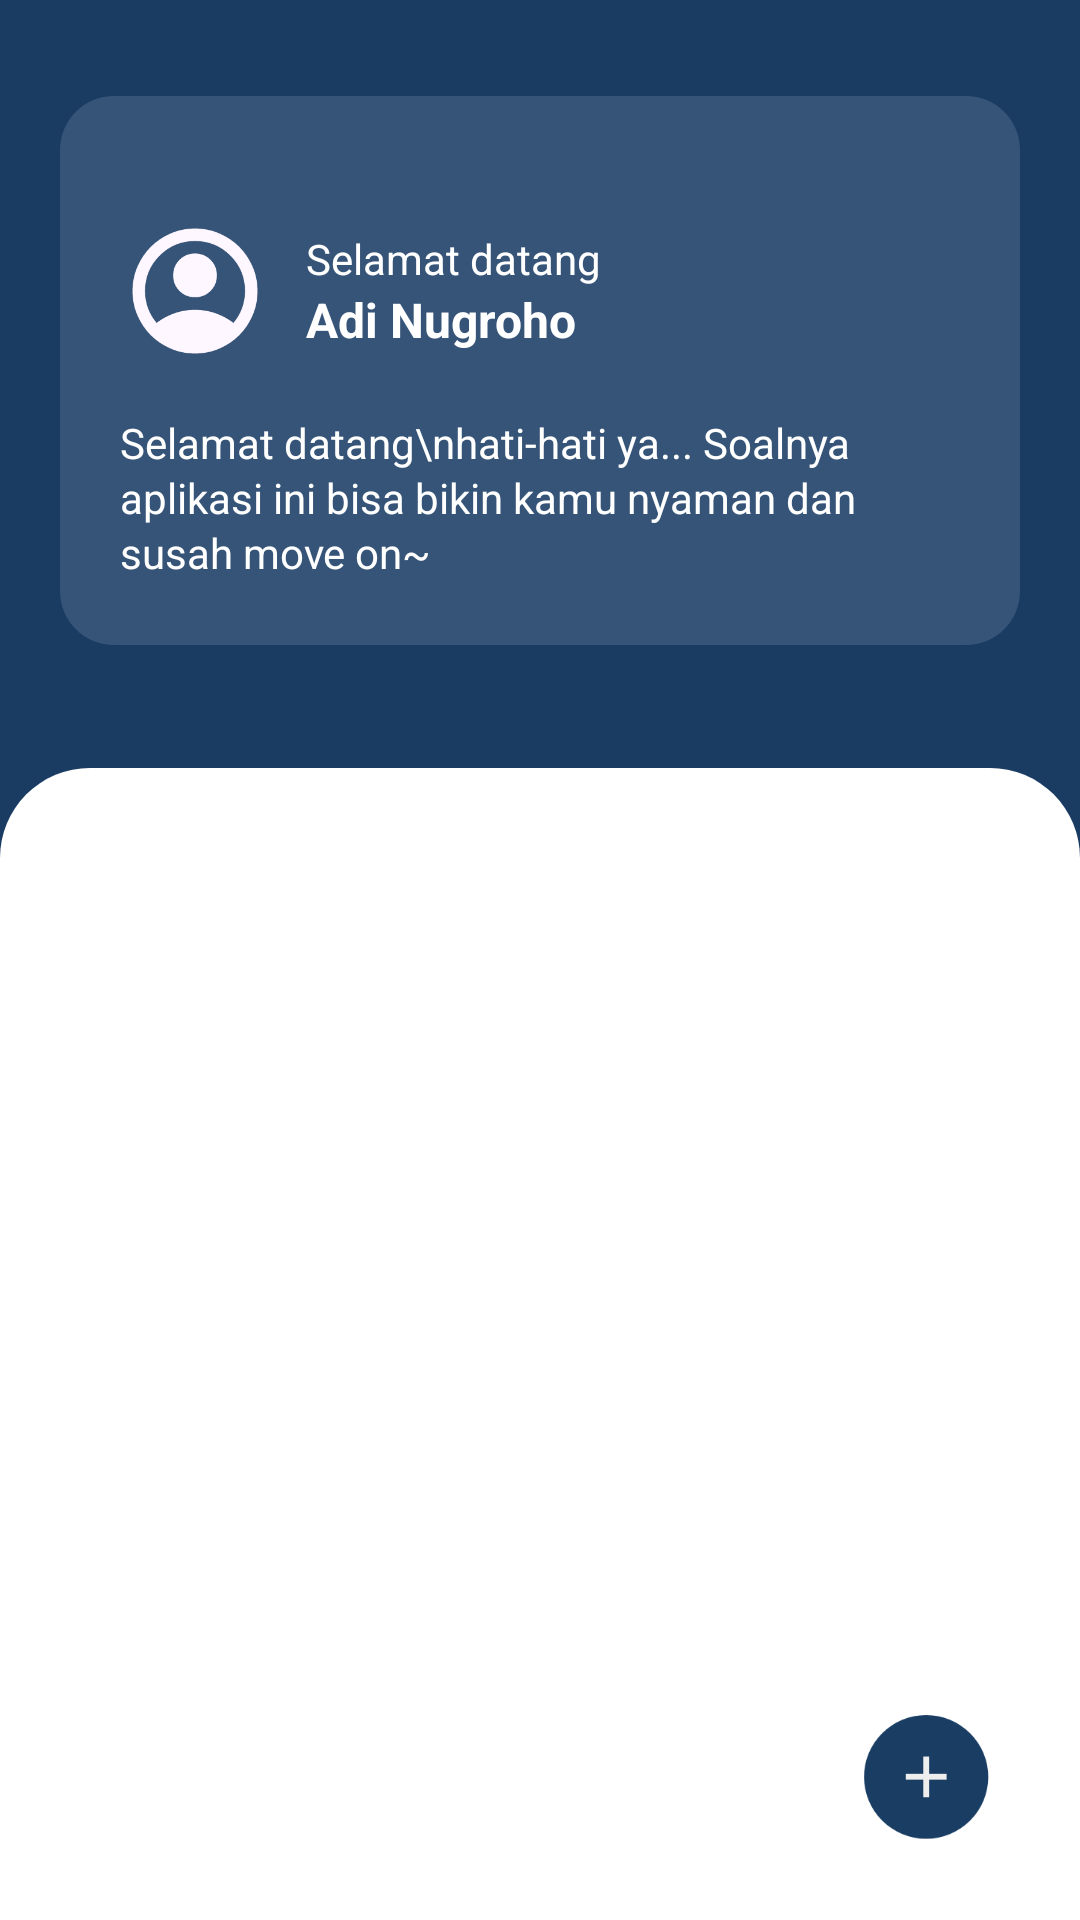

Named icons in this screenshot (1080 × 1920) and their bounding boxes, (x1=x1, y1=y1, x2=x2, y2=y2):
add: (x1=864, y1=1715, x2=989, y2=1839)
User Profile Icon: (x1=132, y1=228, x2=258, y2=354)
